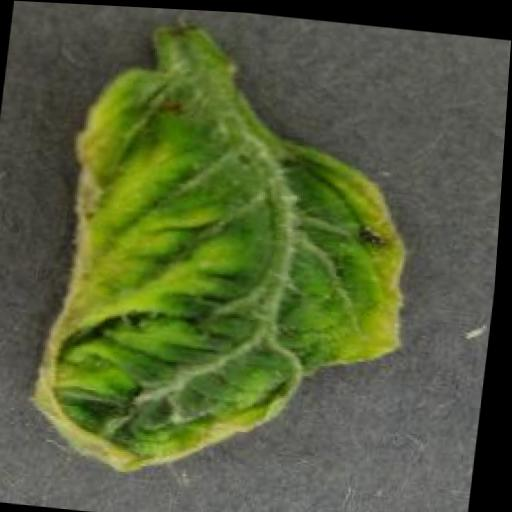Yellow Leaf Curl Virus: (32, 61, 431, 494)
